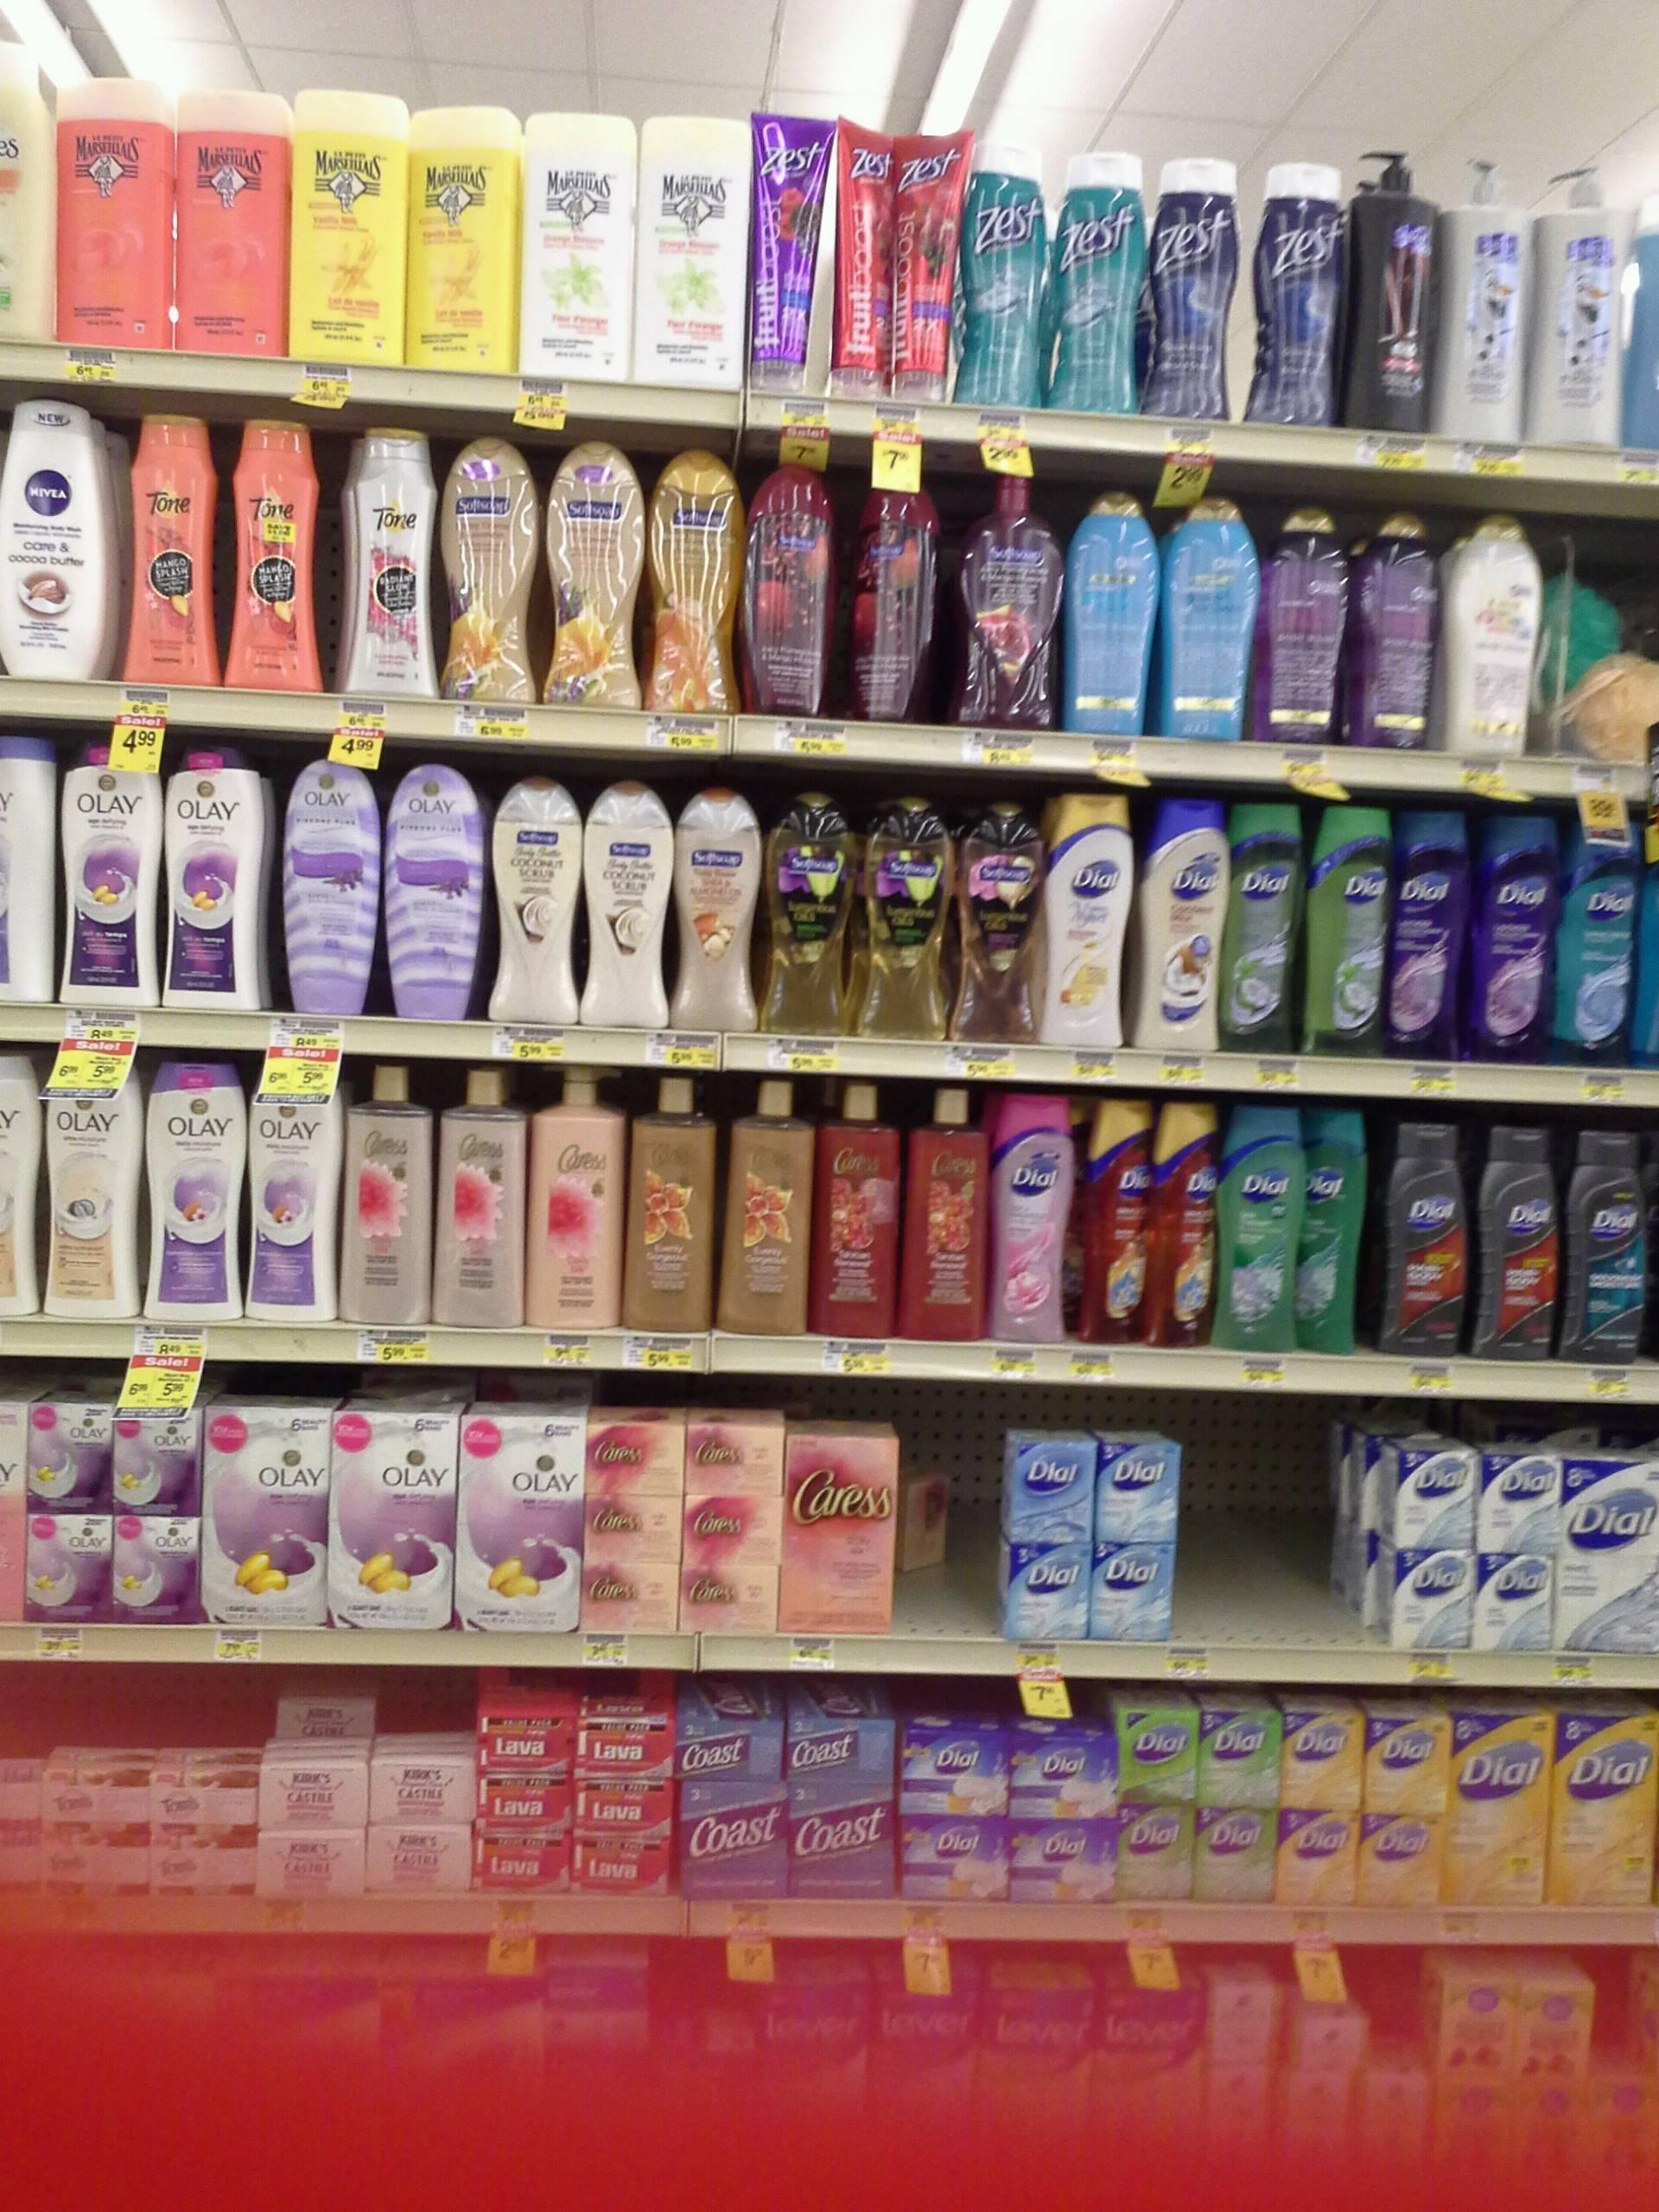empty: (908, 1428, 997, 1642), (1255, 1451, 1331, 1649), (1178, 1451, 1253, 1649)
